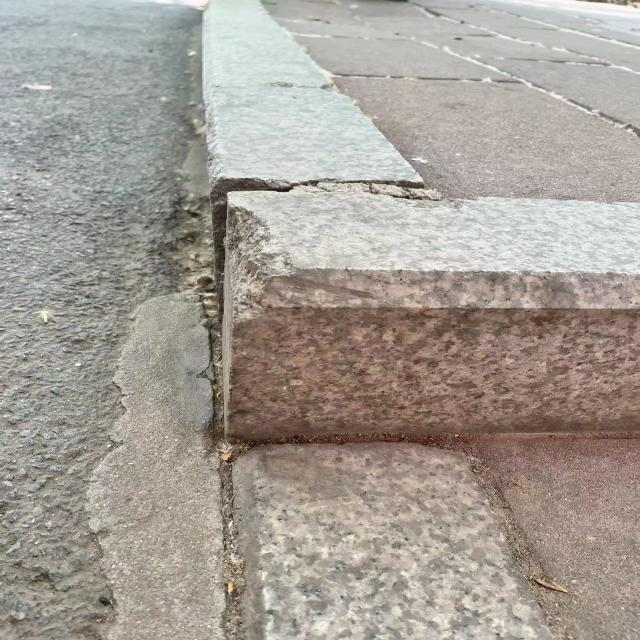bump: (170, 138, 640, 474), (189, 0, 429, 445)
